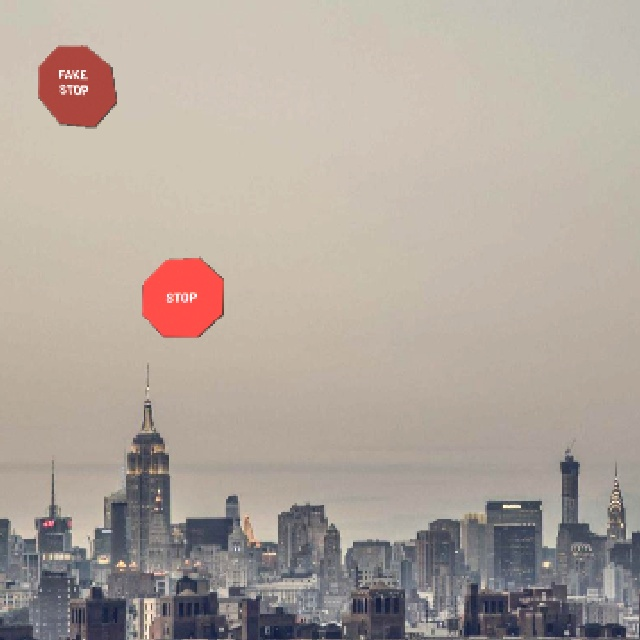FAKE_STOP: (36, 44, 116, 127)
STOP: (140, 256, 223, 337)
